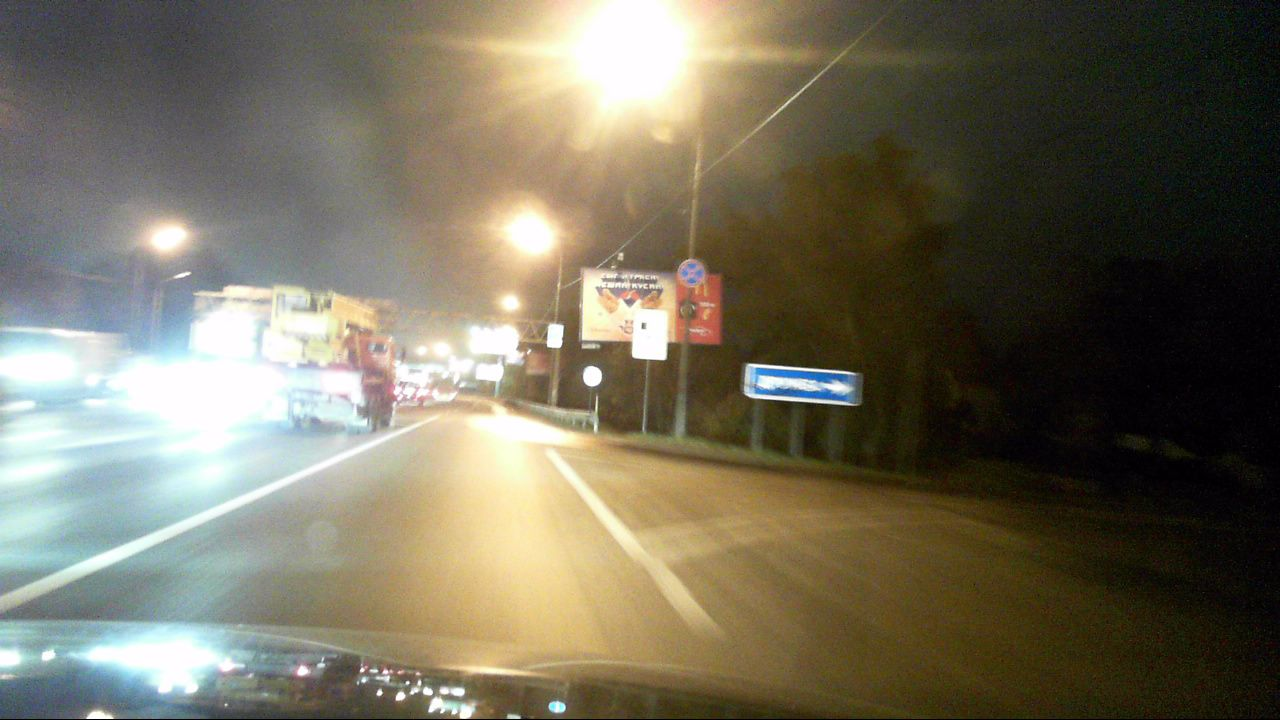No Parking: (676, 258, 705, 287)
